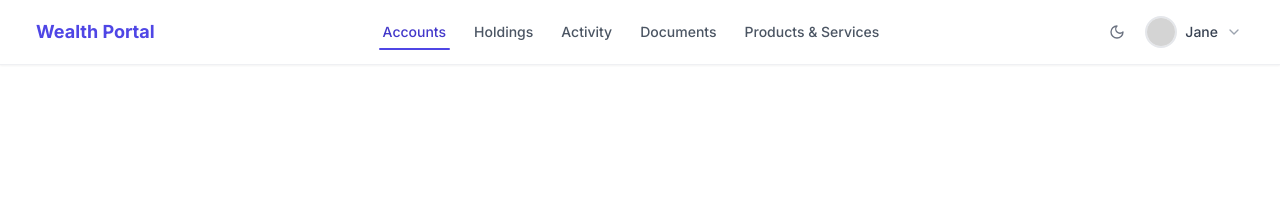
NavigationBar › Profile Avatar and Dropdown › opens the profile dropdown when profile button is clicked
Click the button with aria-label "Open profile menu".
click(1194, 32)  # box [1139, 10, 1248, 54]
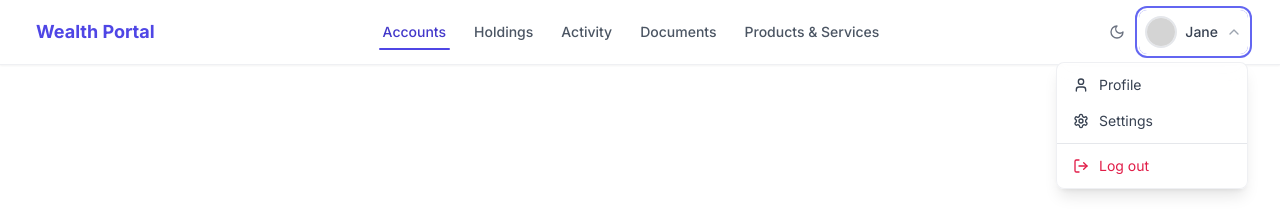
Check: the menu is shown, box [1056, 62, 1248, 189]
